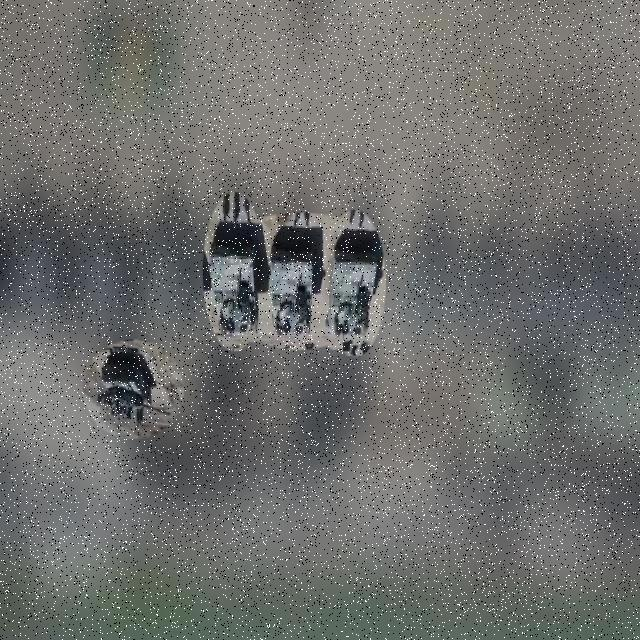MIL_MBT: (96, 351, 173, 427), (208, 234, 262, 338), (327, 244, 380, 348), (267, 238, 316, 348)
